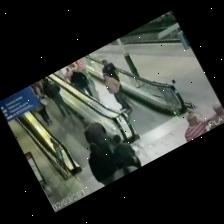person: (84, 119, 113, 157), (104, 73, 132, 112), (89, 144, 116, 184), (73, 58, 99, 98), (43, 78, 70, 116), (114, 134, 141, 167), (185, 111, 209, 141), (71, 69, 93, 96), (35, 100, 51, 125), (209, 102, 223, 129), (103, 60, 120, 82), (35, 103, 51, 125), (114, 166, 137, 180), (65, 68, 73, 82)
